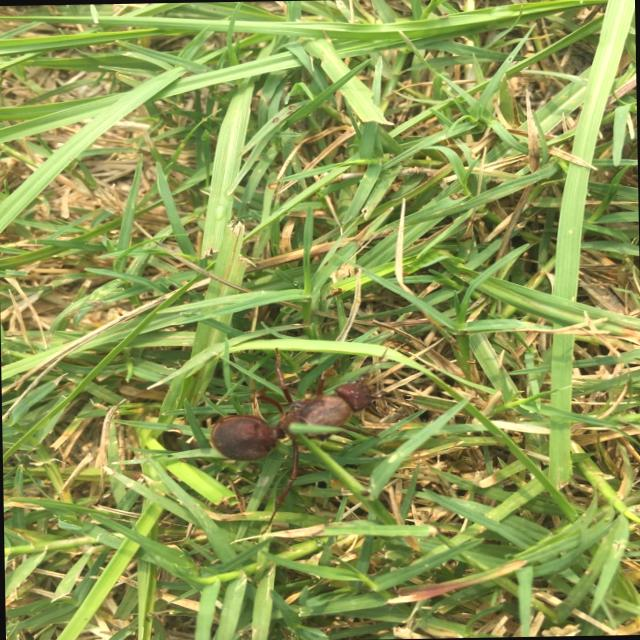Alive-Female-Dealate: (202, 344, 420, 536)
